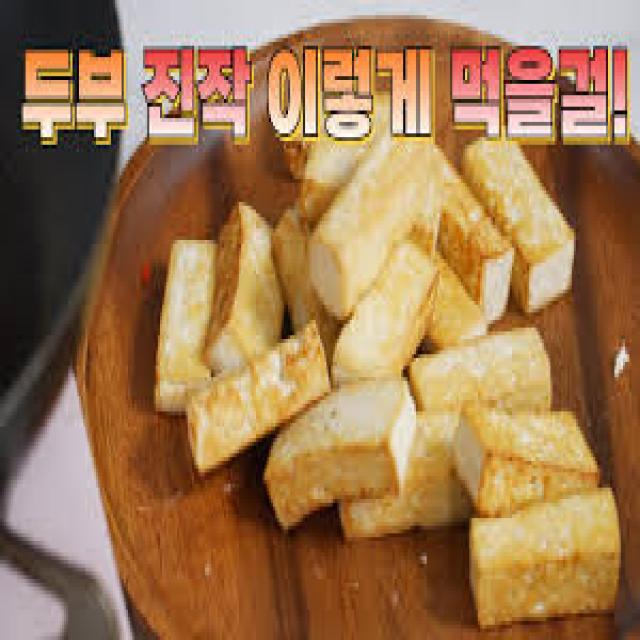tofu: (120, 201, 329, 488), (458, 465, 625, 615)
